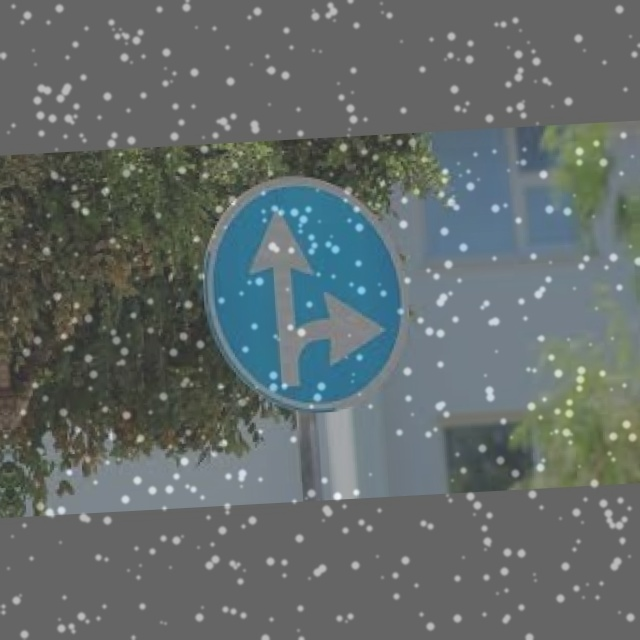Compulsory_Ahead_or_Turn_Right: (200, 170, 414, 423)
